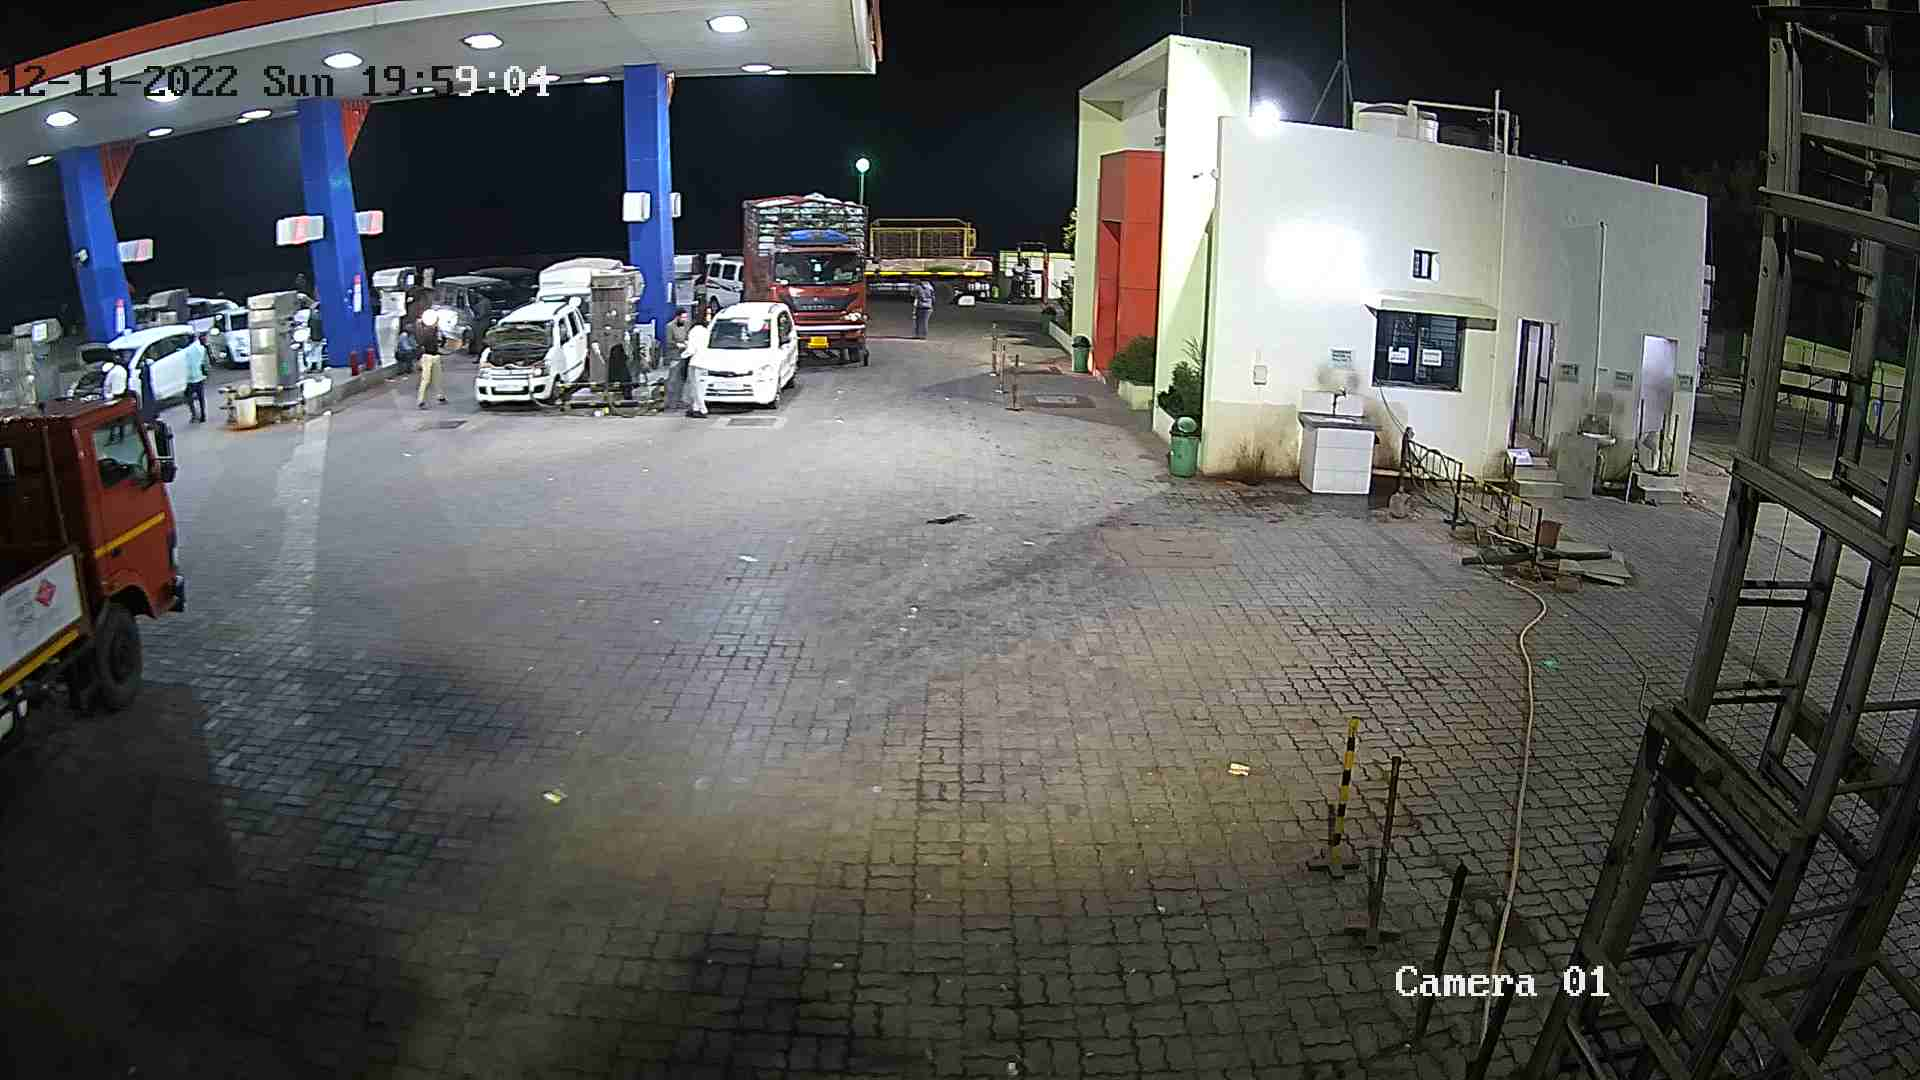Car: (54, 318, 222, 444), (456, 286, 597, 415), (684, 290, 815, 426), (413, 276, 501, 361), (429, 269, 534, 330), (193, 297, 266, 375), (456, 258, 547, 307), (695, 251, 754, 320), (289, 301, 344, 375), (281, 286, 327, 344), (115, 295, 166, 345), (185, 286, 219, 347), (196, 290, 251, 326)
HMV: (0, 368, 200, 756), (727, 182, 886, 378), (858, 210, 1031, 314), (518, 252, 634, 347)
